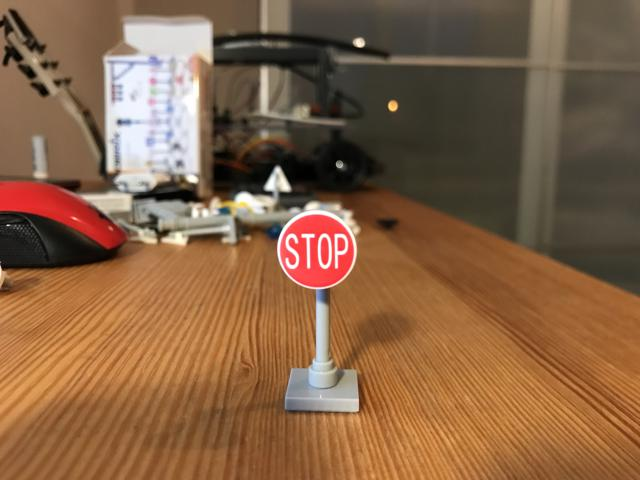stop: (278, 210, 358, 291)
